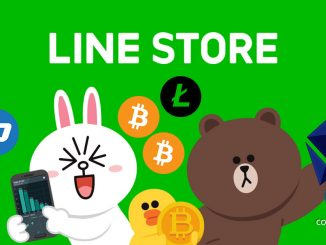line_brown: (177, 103, 310, 219)
